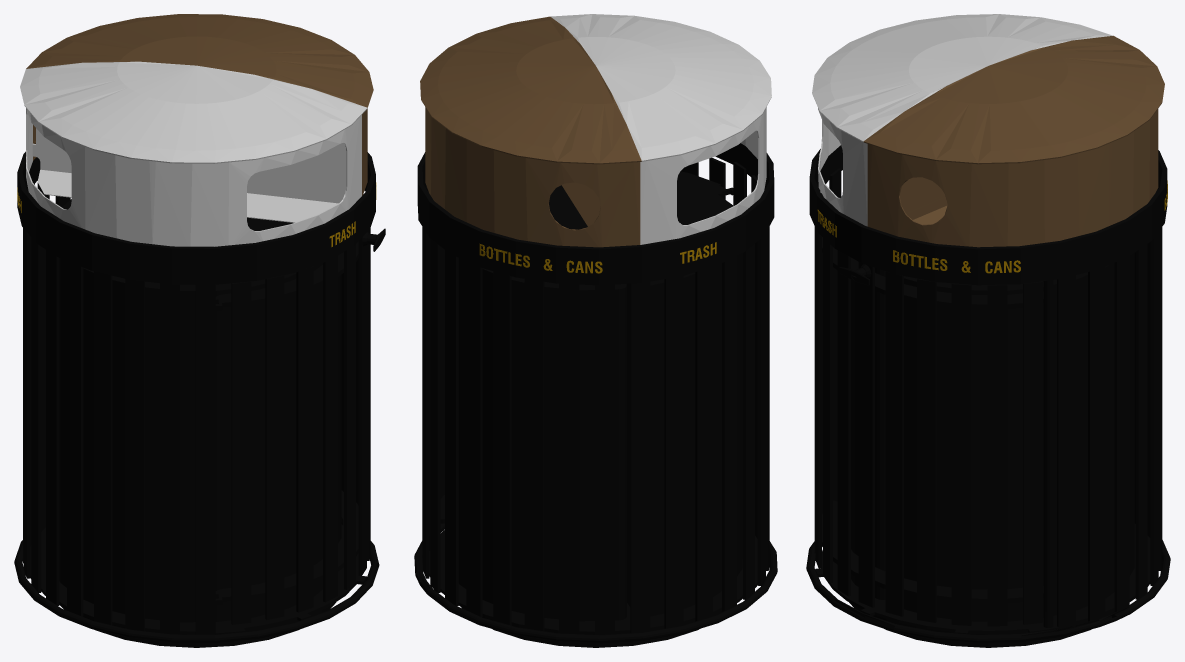
3 renders of one model, left to right at view 1: azimuth 30°, elevation 25°; view 2: azimuth 150°, elevation 25°; view 3: azimuth 270°, elevation 25°, orthographic.
Visible parts, largest first — view 1: mesh37.003_mesh37-geometry, mesh183.002_mesh183-geometry, mesh184.002_mesh184-geometry, mesh175.002_mesh175-geometry, mesh16.002_mesh16-geometry, mesh1.020_mesh1-geometry, mesh185.002_mesh185-geometry, mesh3.015_mesh3-geometry, mesh1.030_mesh1-geometry, mesh1.038_mesh1-geometry, mesh3.021_mesh3-geometry, mesh1.037_mesh1-geometry (+20 smaller); view 2: mesh37.004_mesh37-geometry, mesh175.002_mesh175-geometry, mesh183.002_mesh183-geometry, mesh37.003_mesh37-geometry, mesh176.002_mesh176-geometry, mesh16.002_mesh16-geometry, mesh1.033_mesh1-geometry, mesh1.031_mesh1-geometry, mesh1.032_mesh1-geometry, mesh1.029_mesh1-geometry, mesh1.035_mesh1-geometry, mesh1.021_mesh1-geometry (+18 smaller); view 3: mesh37.004_mesh37-geometry, mesh175.002_mesh175-geometry, mesh176.002_mesh176-geometry, mesh183.002_mesh183-geometry, mesh16.002_mesh16-geometry, mesh3.017_mesh3-geometry, mesh3.018_mesh3-geometry, mesh3.014_mesh3-geometry, mesh3.019_mesh3-geometry, mesh1.028_mesh1-geometry, mesh3.013_mesh3-geometry, mesh1.026_mesh1-geometry (+21 smaller).
Part boxes in pixels (bbox=[...]): mesh37.003_mesh37-geometry: bbox=[59, 258, 322, 622]; mesh183.002_mesh183-geometry: bbox=[20, 61, 367, 163]; mesh184.002_mesh184-geometry: bbox=[26, 108, 361, 246]; mesh175.002_mesh175-geometry: bbox=[26, 14, 373, 107]; mesh16.002_mesh16-geometry: bbox=[17, 151, 375, 284]; mesh1.020_mesh1-geometry: bbox=[195, 284, 215, 634]; mesh185.002_mesh185-geometry: bbox=[32, 128, 345, 222]; mesh3.015_mesh3-geometry: bbox=[231, 281, 251, 624]; mesh1.030_mesh1-geometry: bbox=[160, 283, 179, 634]; mesh1.038_mesh1-geometry: bbox=[125, 279, 144, 631]; mesh3.021_mesh3-geometry: bbox=[265, 275, 284, 619]; mesh1.037_mesh1-geometry: bbox=[94, 271, 112, 625]; mesh37.004_mesh37-geometry: bbox=[458, 185, 626, 621]; mesh175.002_mesh175-geometry: bbox=[420, 16, 641, 164]; mesh183.002_mesh183-geometry: bbox=[550, 14, 771, 161]; mesh37.003_mesh37-geometry: bbox=[626, 178, 742, 616]; mesh176.002_mesh176-geometry: bbox=[425, 107, 640, 247]; mesh16.002_mesh16-geometry: bbox=[417, 143, 774, 285]; mesh1.033_mesh1-geometry: bbox=[630, 281, 650, 633]; mesh1.031_mesh1-geometry: bbox=[559, 283, 579, 634]; mesh1.032_mesh1-geometry: bbox=[524, 279, 544, 631]; mesh1.029_mesh1-geometry: bbox=[664, 276, 683, 628]; mesh1.035_mesh1-geometry: bbox=[595, 284, 614, 634]; mesh1.021_mesh1-geometry: bbox=[493, 271, 511, 625]; mesh37.004_mesh37-geometry: bbox=[904, 253, 1134, 621]; mesh175.002_mesh175-geometry: bbox=[863, 35, 1164, 164]; mesh176.002_mesh176-geometry: bbox=[867, 109, 1158, 247]; mesh183.002_mesh183-geometry: bbox=[812, 14, 1112, 142]; mesh16.002_mesh16-geometry: bbox=[809, 145, 1167, 285]; mesh3.017_mesh3-geometry: bbox=[987, 284, 1007, 626]; mesh3.018_mesh3-geometry: bbox=[951, 283, 971, 625]; mesh3.014_mesh3-geometry: bbox=[1023, 281, 1042, 624]; mesh3.019_mesh3-geometry: bbox=[917, 278, 936, 622]; mesh1.028_mesh1-geometry: bbox=[1057, 275, 1075, 628]; mesh3.013_mesh3-geometry: bbox=[885, 271, 903, 616]; mesh1.026_mesh1-geometry: bbox=[1088, 267, 1105, 621].
Size of the model in its own units: 0.472 by 0.7446 by 0.472.
